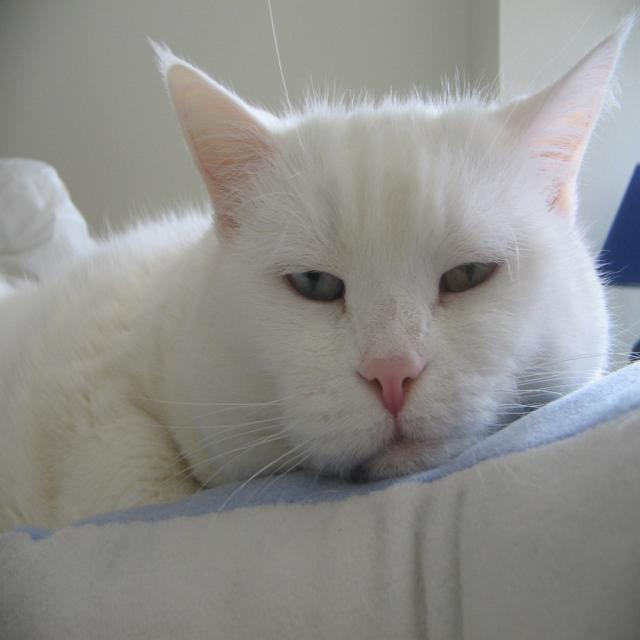cat: (2, 10, 639, 535)
